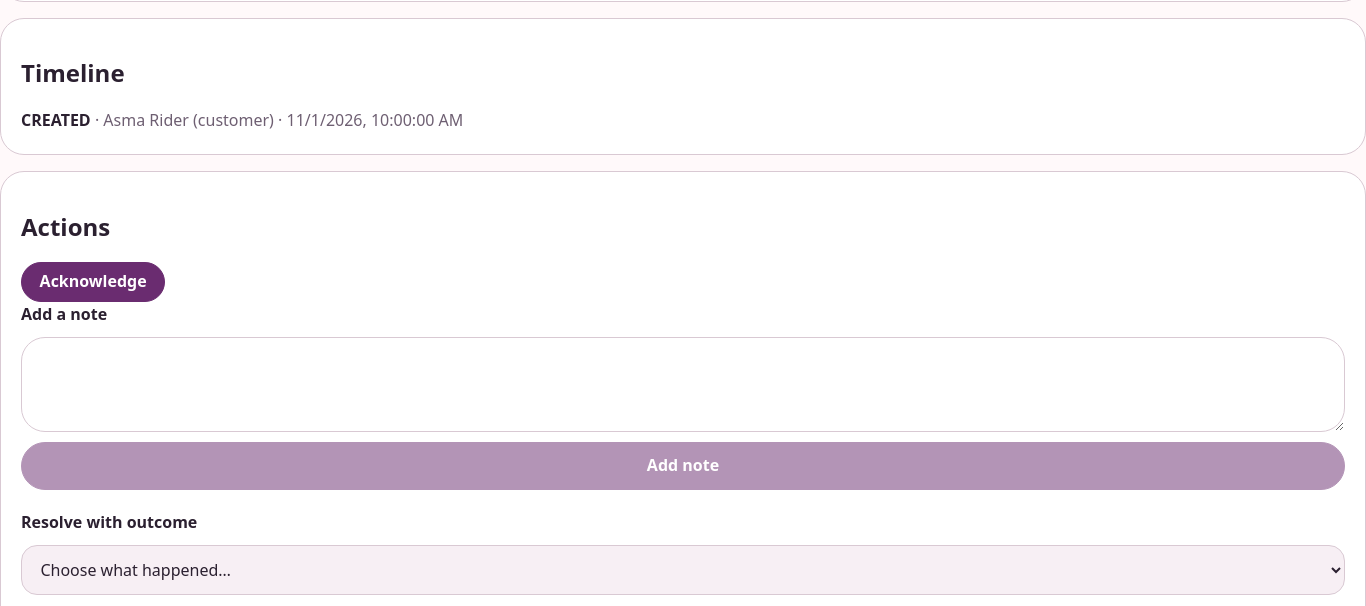
Scenario: SafetyIncident › adds a note and clears the box
(page scrolled)
Type "Rider is safe" into the text box labelled "Add a note" at (683, 385), box [21, 337, 1345, 432]
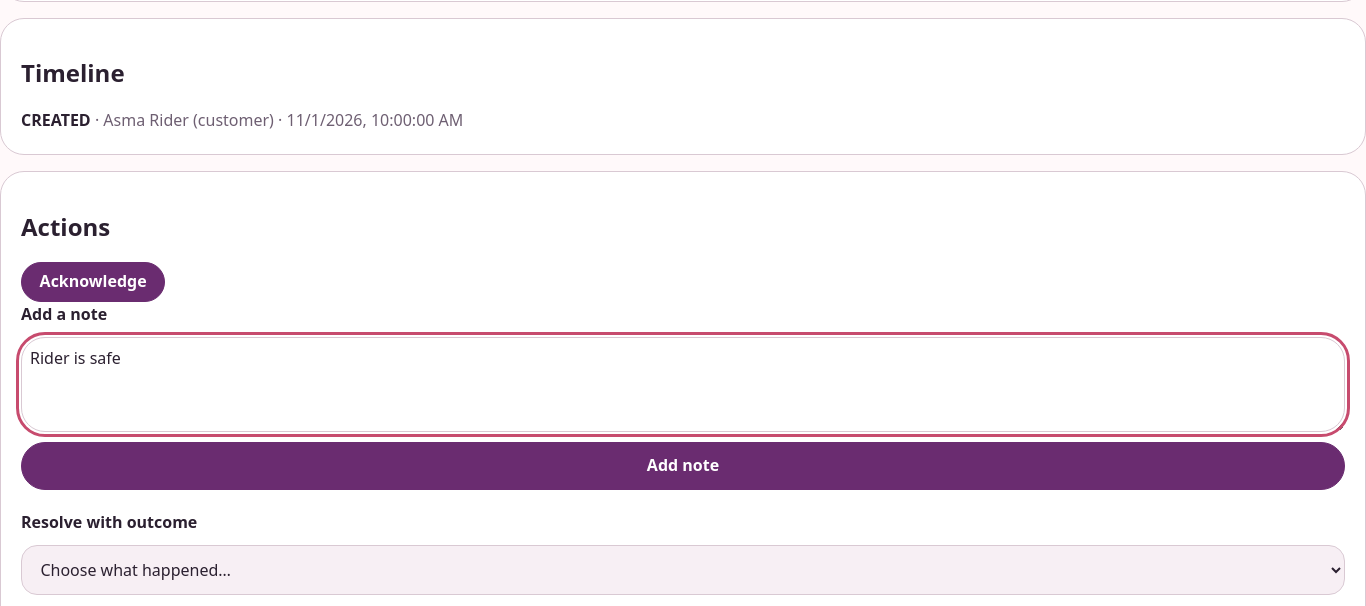
Click the button "Add note" at (683, 466), box [21, 442, 1345, 490]
(page scrolled)
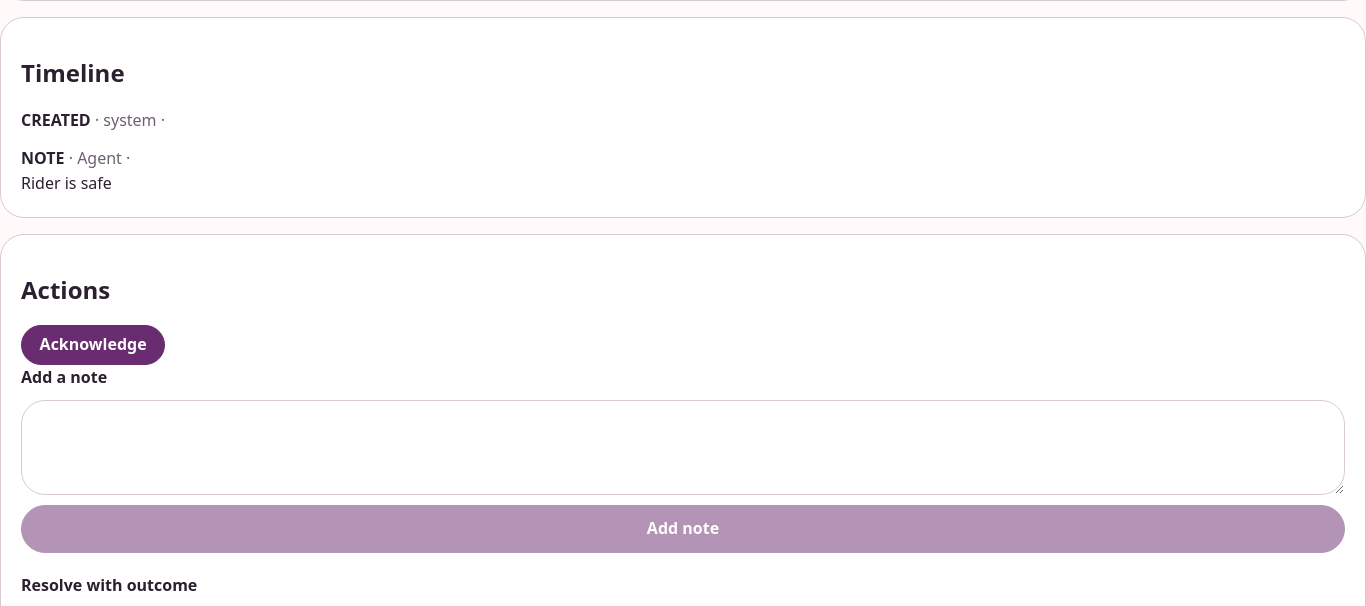
Now the text "Rider is safe" is shown, box [21, 172, 112, 194]
Now the text box labelled "Add a note" is empty, box [21, 400, 1345, 495]
